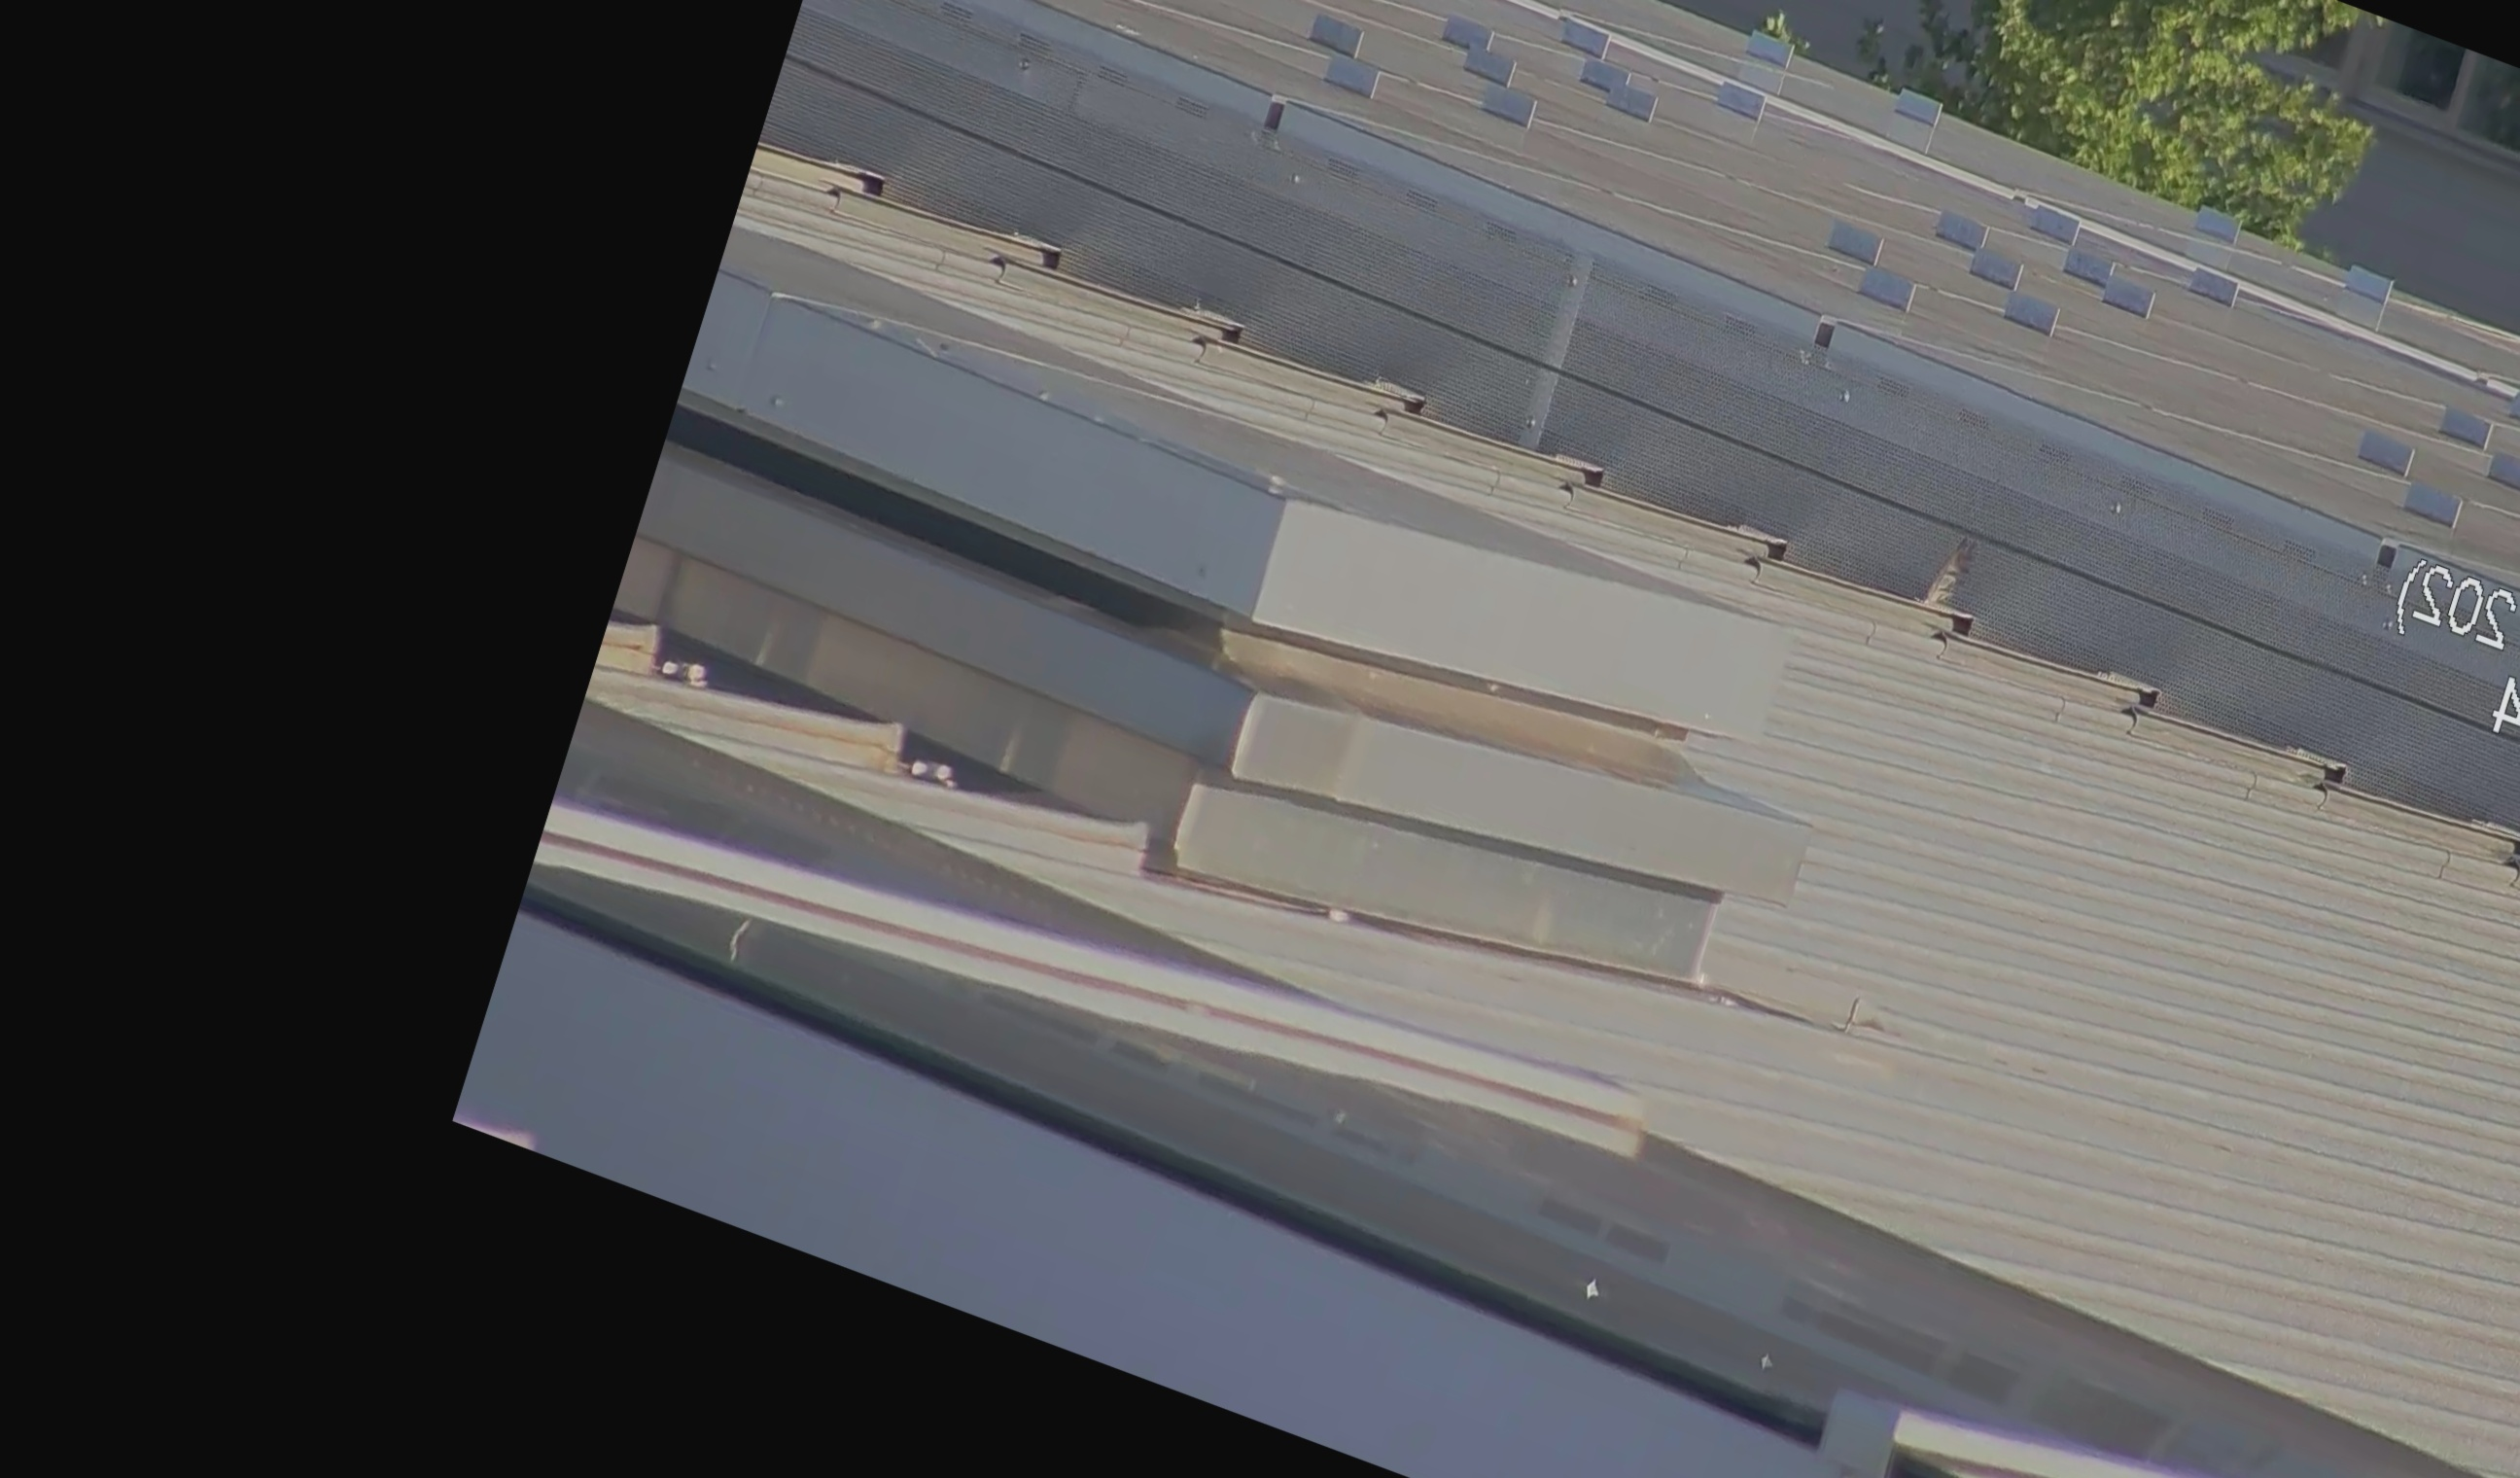Other: (1908, 510, 2012, 655)
